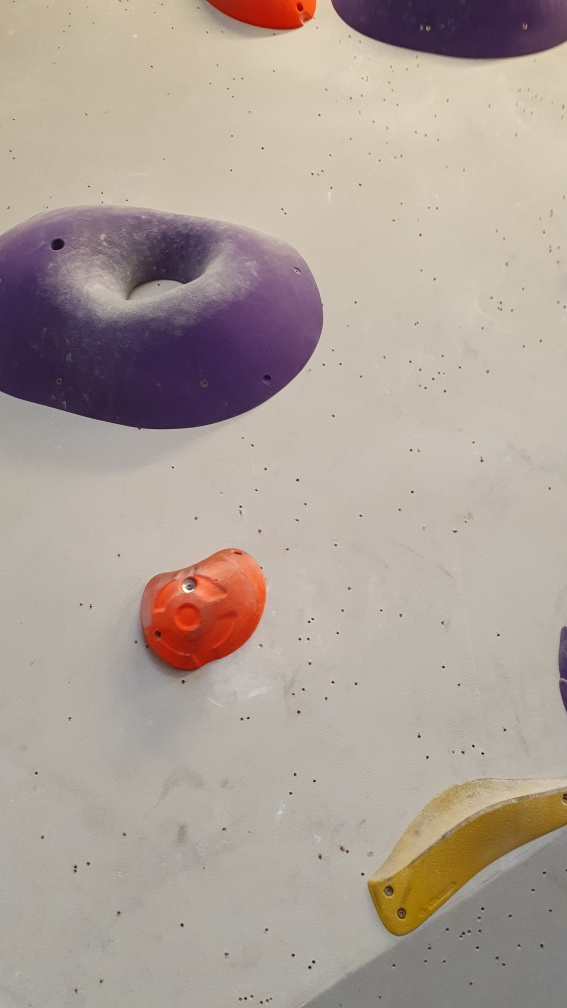Pocket: (1, 199, 327, 432)
